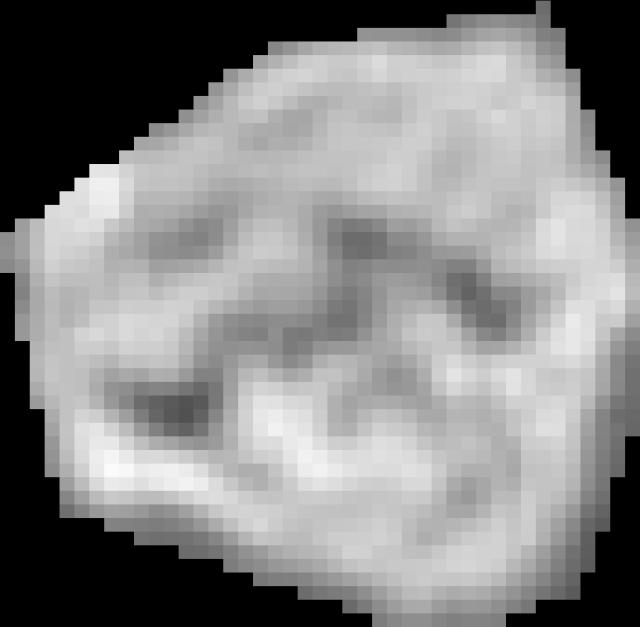tumor_good_chance: (0, 1, 640, 627)
